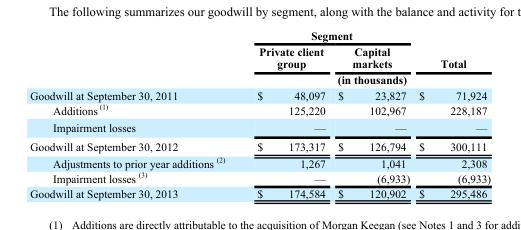table: (29, 28, 490, 199)
table column: (29, 28, 240, 199), (240, 28, 331, 199), (331, 28, 413, 199), (413, 28, 490, 199)
table column header: (29, 28, 490, 87)
table row: (29, 43, 490, 71), (29, 118, 490, 136), (29, 101, 490, 118), (29, 136, 490, 153), (29, 71, 490, 87), (29, 153, 490, 169), (29, 169, 490, 185), (29, 28, 490, 43), (29, 87, 490, 101), (29, 185, 490, 199)
table spanning cell: (240, 71, 490, 87), (413, 28, 490, 71), (240, 28, 413, 43)
